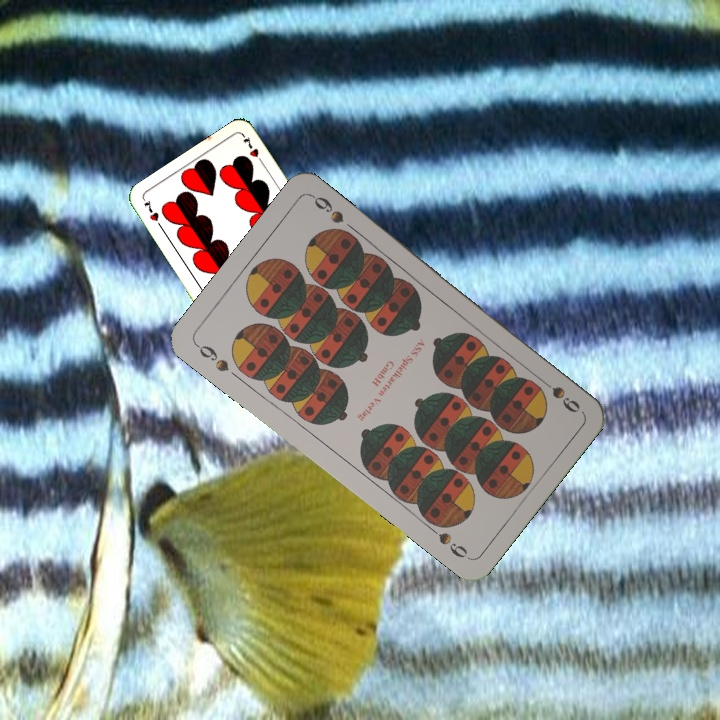H7: (139, 196, 166, 233)
S9: (533, 372, 583, 416), (191, 339, 232, 375)
